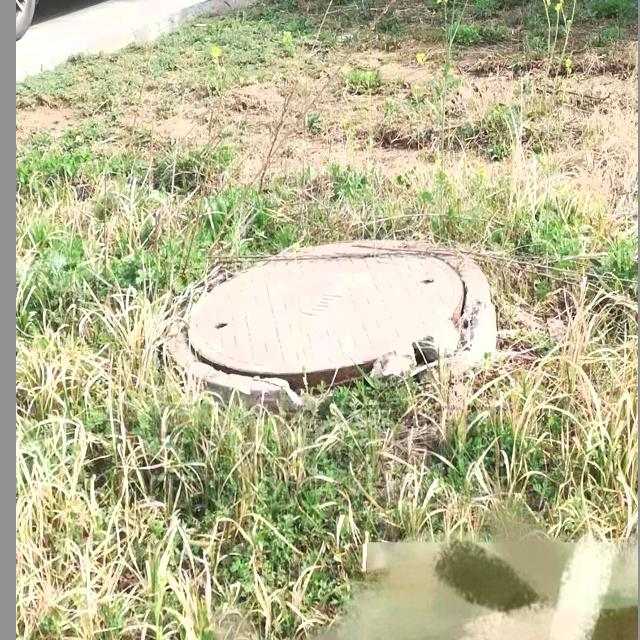circle: (144, 228, 493, 412)
